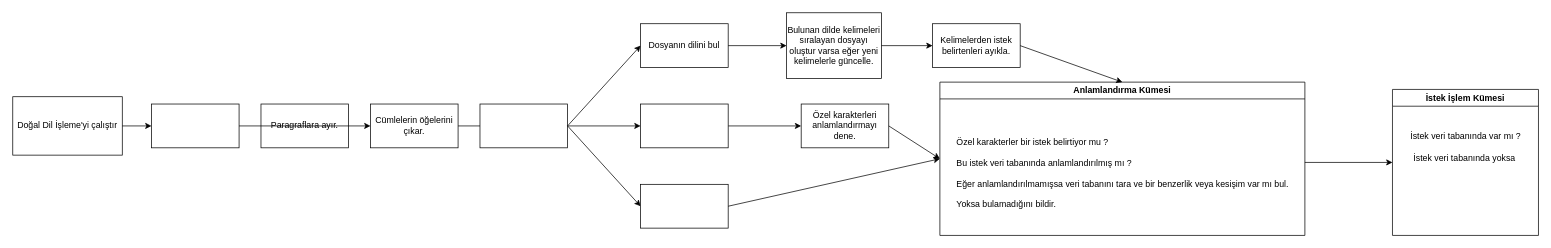
This 1551x248 diagram has some shape labels left out. Here are the shapes that lost their labels. From the top down, the centre of each, then its label:
At [195,125]: "Veri kümesindeki dosyaları oku".
At [523,125]: "Dosyayı anlamlandır.".
At [684,125]: "Sayı ve özel karakterleri ayıkla.".
At [684,206]: "Varsa dosyadaki istekleri ve cevaplarını ayıkla".
